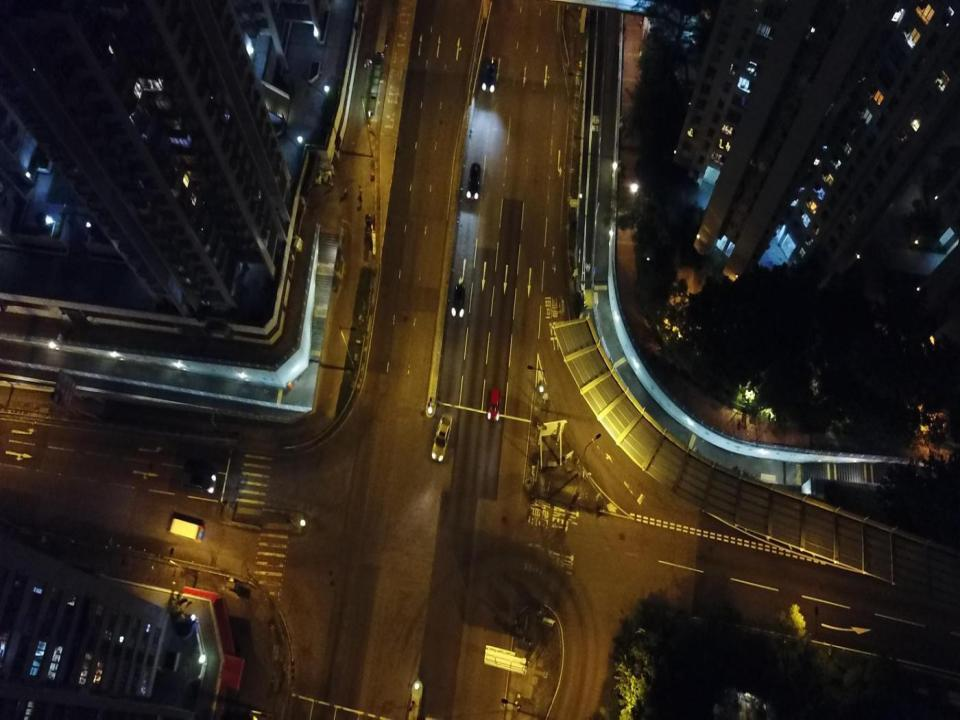bus: (169, 517, 204, 544)
car: (431, 412, 452, 462), (181, 470, 218, 494), (480, 56, 498, 93), (467, 163, 481, 200), (487, 387, 501, 421), (452, 283, 465, 315)
